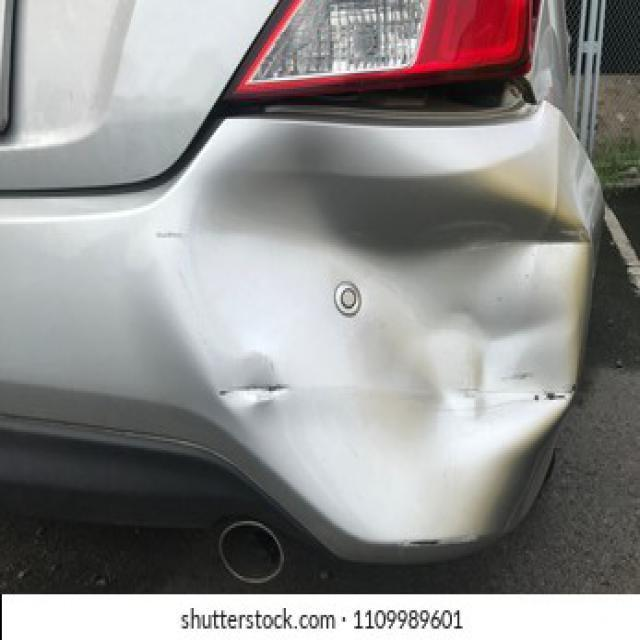rear-bumper-dent: (157, 121, 598, 551)
